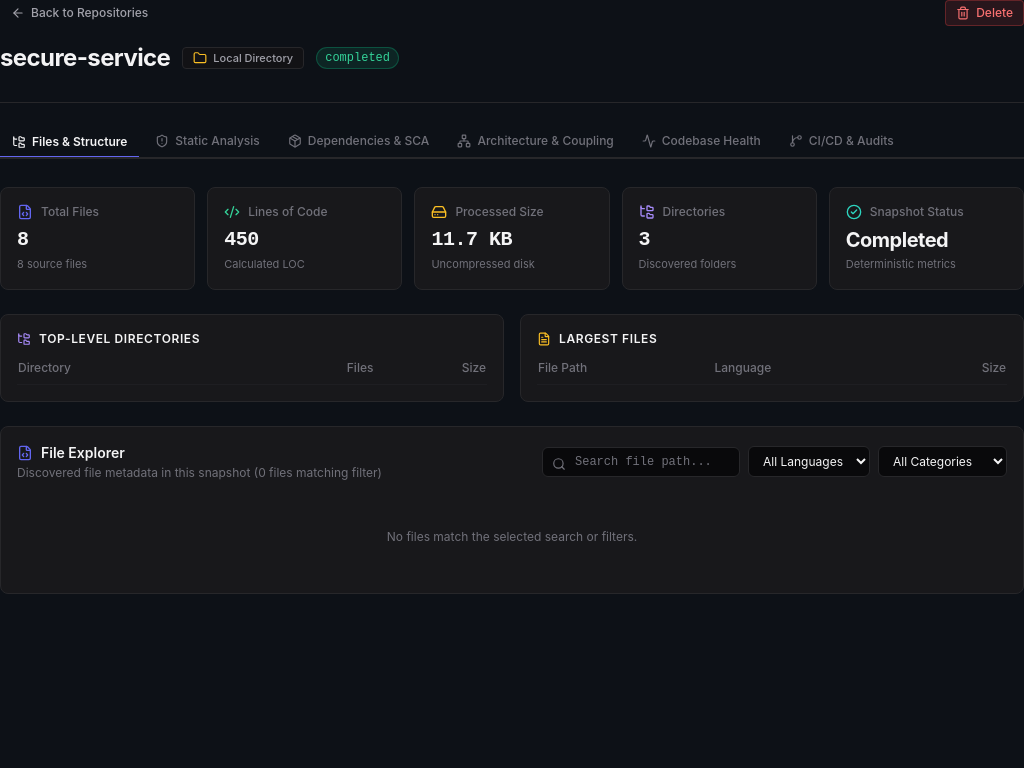
it: Phase 4 Application Security Intelligence View › opens security finding detail modal with Why It Matters, Remediation, and Disclaimer
Click the button "Static Analysis" at (208, 142), box top-left (143, 127), bottom-right (272, 157)
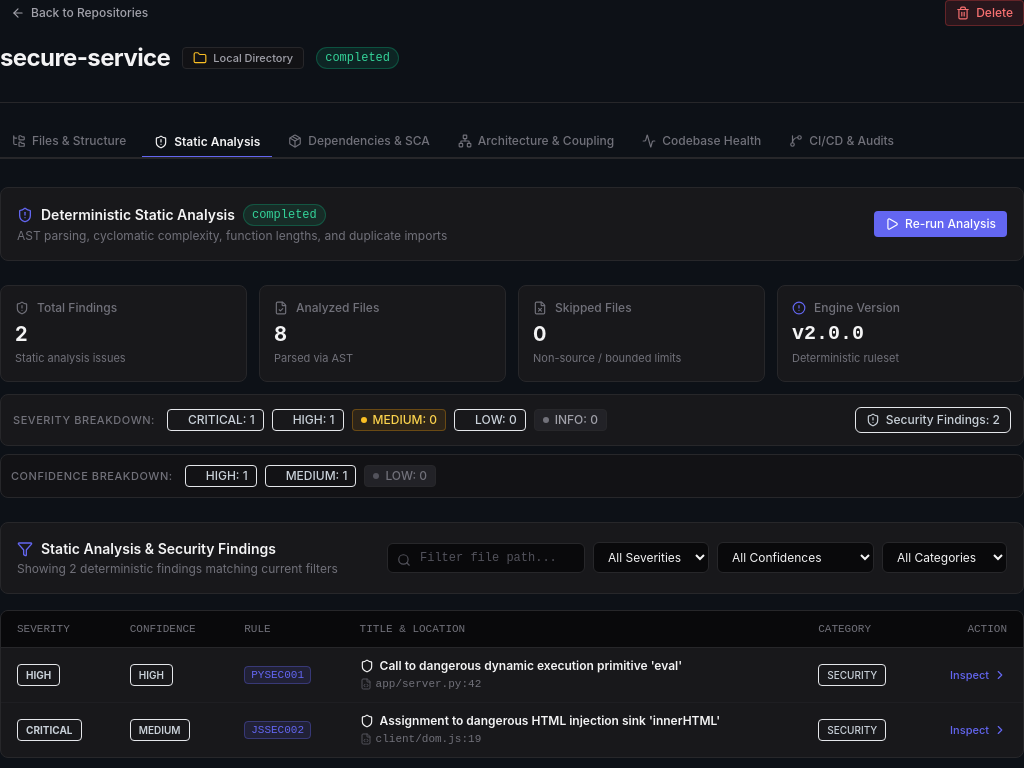
expect the text "PYSEC001" is shown: met, box top-left (244, 666), bottom-right (311, 684)
# Inspect first finding (PYSEC001)
Click the button "Inspect" in the row of "PYSEC001" at (979, 674), box top-left (950, 666), bottom-right (1007, 682)
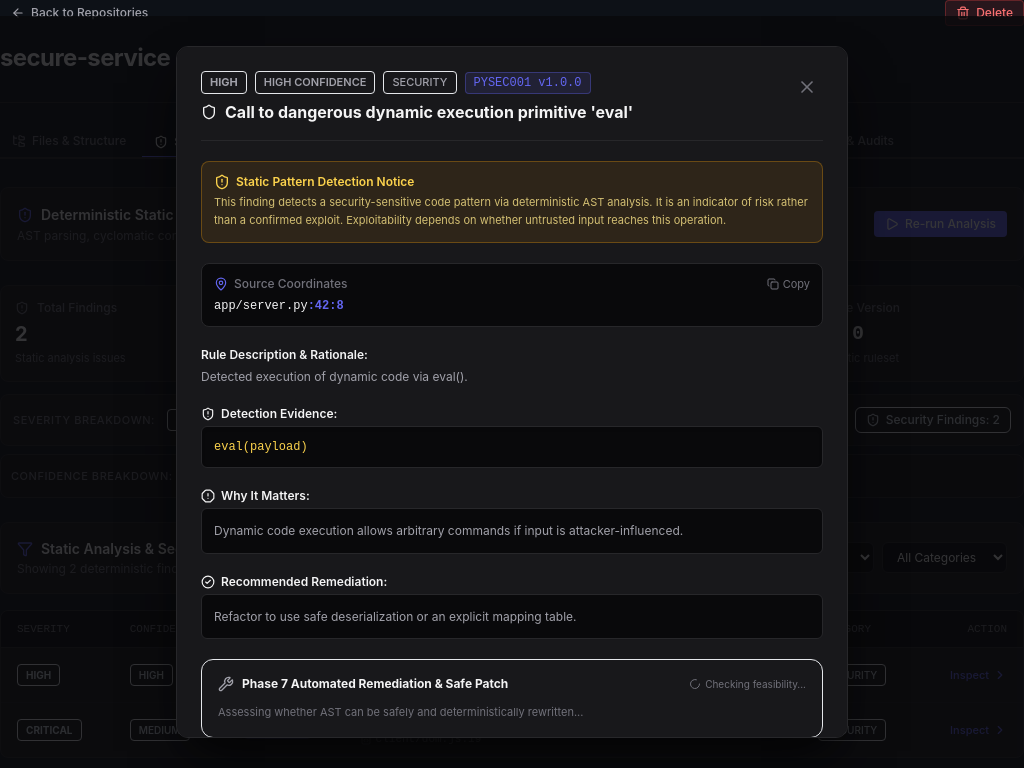
expect the text "HIGH CONFIDENCE" is shown: met, box top-left (255, 71), bottom-right (375, 94)
expect the text "Static Pattern Detection Notice" is shown: met, box top-left (236, 174), bottom-right (414, 190)
expect the text "Why It Matters:" is shown: met, box top-left (221, 488), bottom-right (310, 504)
# Close modal
Click the button named "Close dialog" at (807, 87), box top-left (791, 71), bottom-right (823, 103)
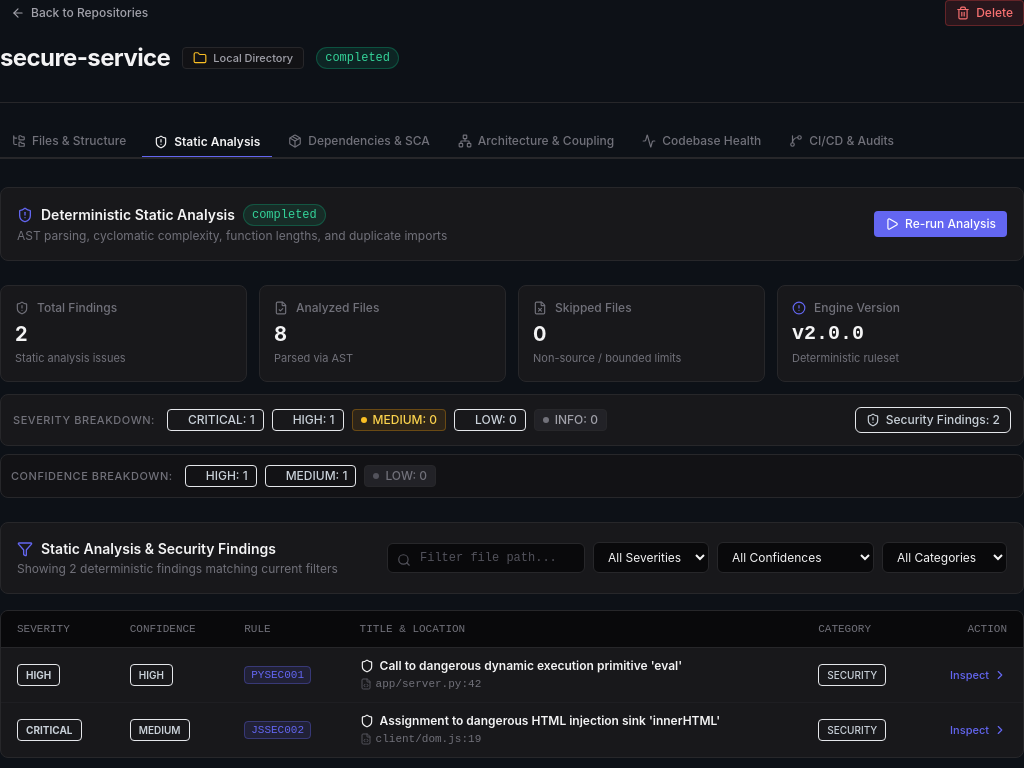
expect the text "Static Pattern Detection Notice" is gone: met
